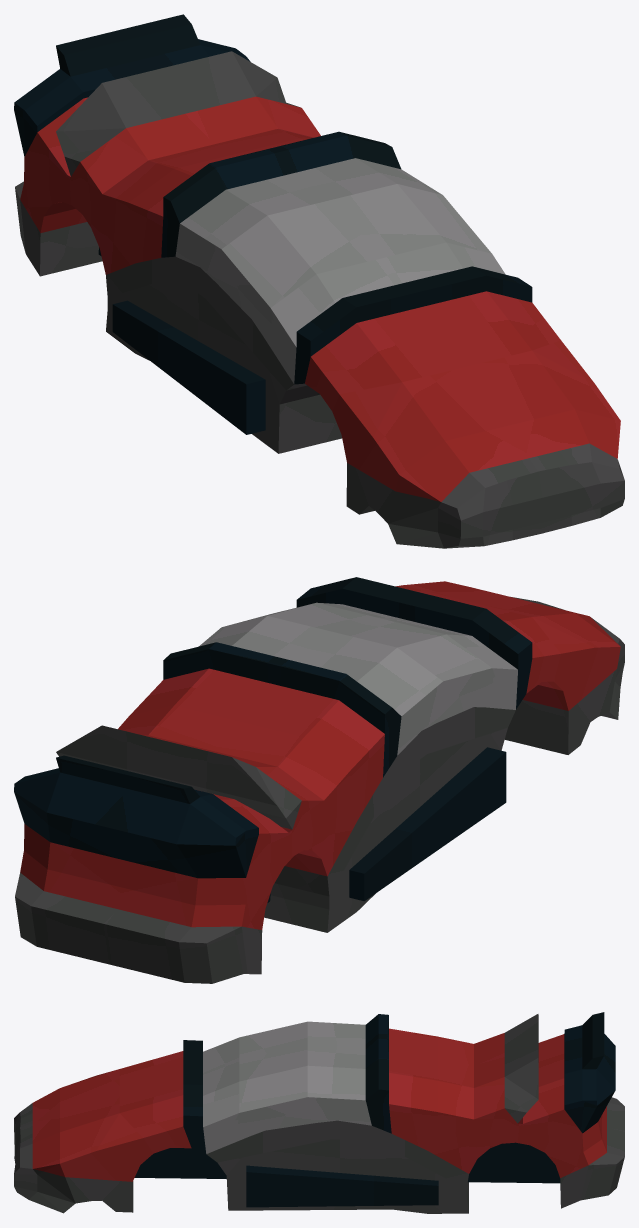
Rendered from Car.glb.
3 views of the same model, one above another, from view 1: azimuth 30°, elevation 25°; view 2: azimuth 150°, elevation 25°; view 3: azimuth 270°, elevation 25° (orthographic). The views are drawn at different scales.
Visible parts, largest first — view 1: LowPolyCar_001; view 2: LowPolyCar_001; view 3: LowPolyCar_001.
Part boxes in pixels (box(x1,y1,x2,y2)): LowPolyCar_001: box(14, 14, 624, 548); LowPolyCar_001: box(14, 577, 624, 983); LowPolyCar_001: box(14, 1012, 624, 1213).
Size of the model in its own units: 1.46 by 1.1 by 4.27.
1 material, 1 textured.
